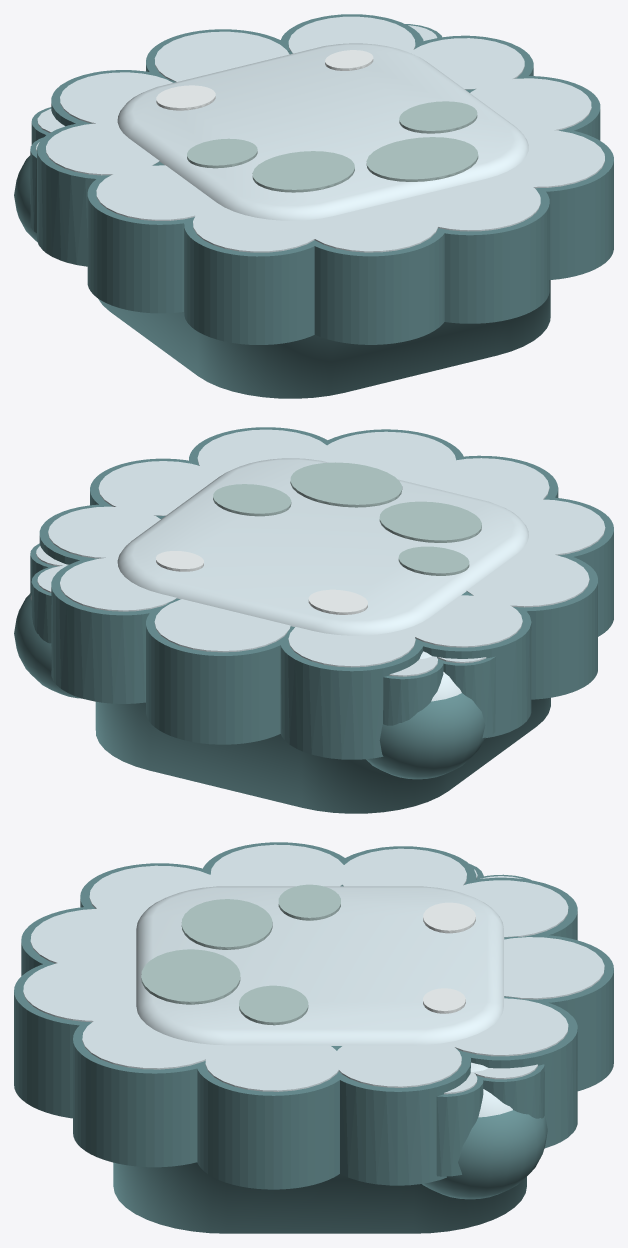
Rendered from body_nuvem.fbx.
3 renders of one model, top to bottom at view 1: azimuth 30°, elevation 25°; view 2: azimuth 150°, elevation 25°; view 3: azimuth 270°, elevation 25°, orthographic. The views are drawn at different scales.
Parts seen in each view (by area): view 1: body_nuvem_corpo, body_nuvem_mao_esq; view 2: body_nuvem_corpo, body_nuvem_mao_esq, body_nuvem_mao; view 3: body_nuvem_corpo, body_nuvem_mao.
Part boxes in pixels (x1,y1,x2,y2): body_nuvem_corpo: (37,14,613,398); body_nuvem_mao_esq: (14,107,64,241); body_nuvem_corpo: (39,427,613,813); body_nuvem_mao_esq: (366,651,495,779); body_nuvem_mao: (14,543,81,698); body_nuvem_corpo: (14,842,613,1233); body_nuvem_mao: (422,1062,547,1199).
Bounding box in the file's own units: 5.8 × 2.03 × 5.8.
1 material, 1 textured.
